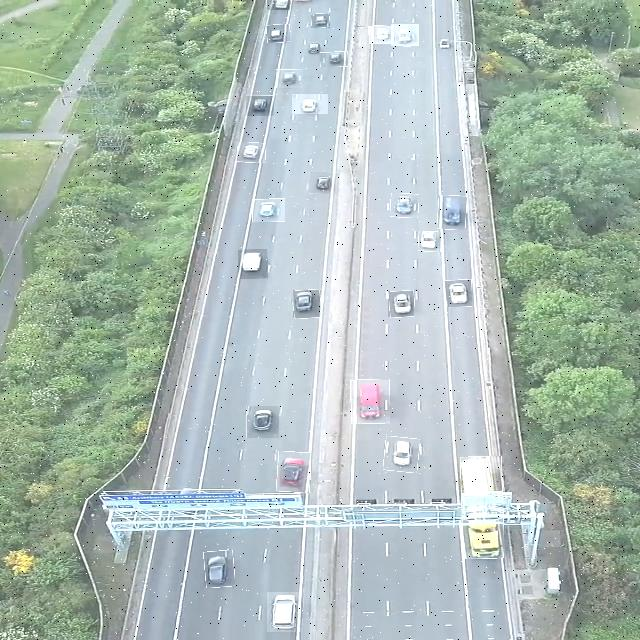Car: (267, 592, 301, 632), (277, 452, 310, 492), (384, 437, 419, 472), (204, 551, 235, 587), (246, 406, 279, 438), (438, 196, 466, 230), (238, 249, 268, 279), (294, 290, 322, 318), (252, 199, 285, 222), (445, 280, 472, 307), (292, 94, 328, 114), (390, 194, 419, 218), (309, 172, 339, 195), (388, 291, 414, 317), (391, 24, 419, 46), (246, 95, 274, 116), (238, 143, 266, 163), (276, 69, 303, 88), (419, 232, 443, 252), (369, 26, 394, 44), (320, 52, 348, 67), (267, 25, 290, 43), (311, 14, 330, 28), (266, 0, 290, 10)
Truck: (461, 457, 504, 559), (351, 380, 390, 424)
